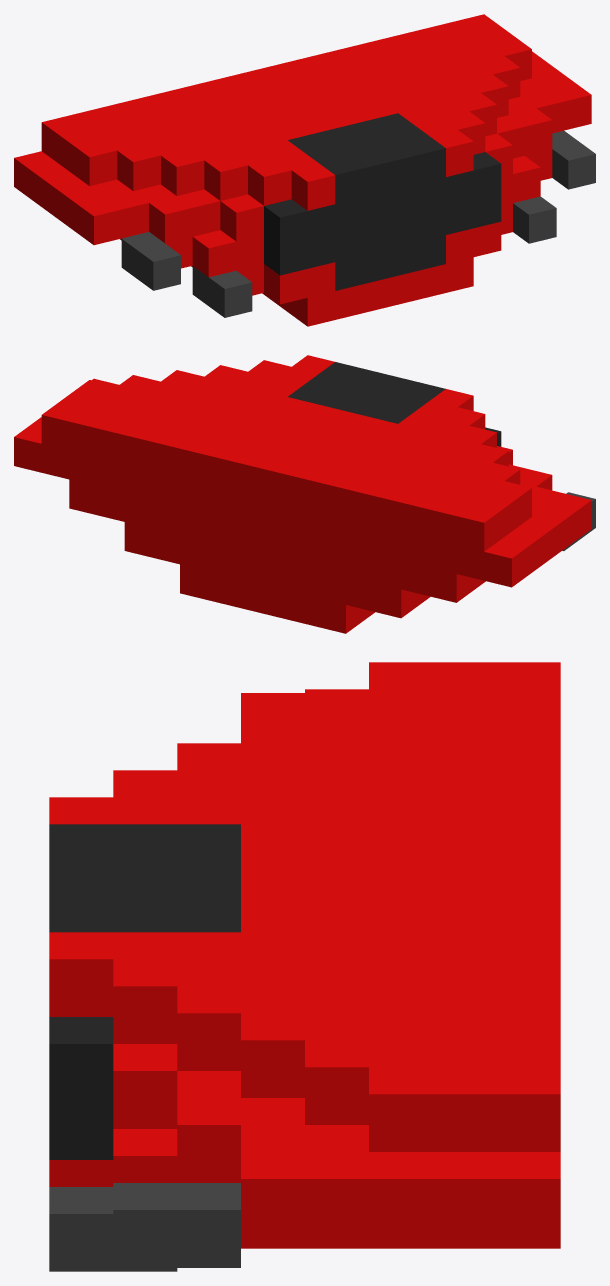
The model's file is spaceship 1.dae.
The picture shows the model from 3 angles, top to bottom: view 1: azimuth 30°, elevation 25°; view 2: azimuth 150°, elevation 25°; view 3: azimuth 270°, elevation 25°; orthographic projection. The views are drawn at different scales.
Visible parts, largest first — view 1: ObjObject.004; view 2: ObjObject.004; view 3: ObjObject.004.
Boxes of the visible parts, x1,y1,x2,y2 form: ObjObject.004: (14,14,595,326); ObjObject.004: (14,355,595,633); ObjObject.004: (49,662,560,1271).
Bounding box in the file's own units: 1.8 × 0.8 × 0.5.
1 material, 1 textured.
